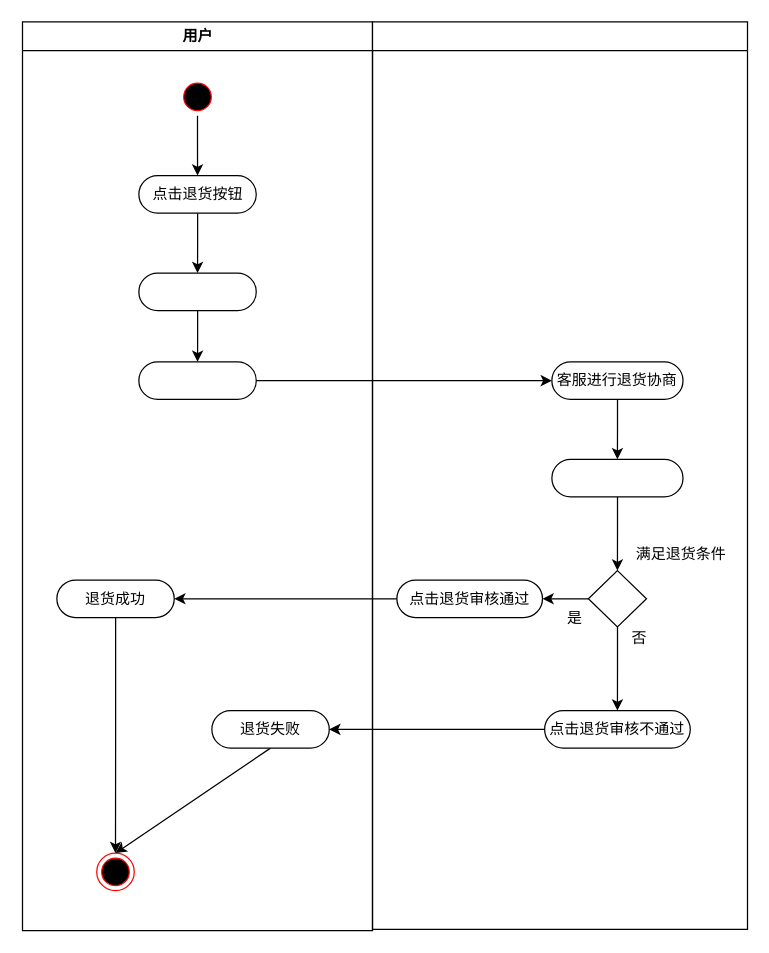
Some shapes in this 769 by 953 pixel diagram are drawn without their labels. The shapes that lost their labels are listed below. From the top down, each one's box as (x1, y1, x2, y2) in pixels, then its label:
(138, 272, 256, 311): 填写退货原因
(138, 361, 256, 399): 点击提交
(371, 21, 748, 929): 客服后台
(551, 458, 683, 497): 查看订单相关信息
